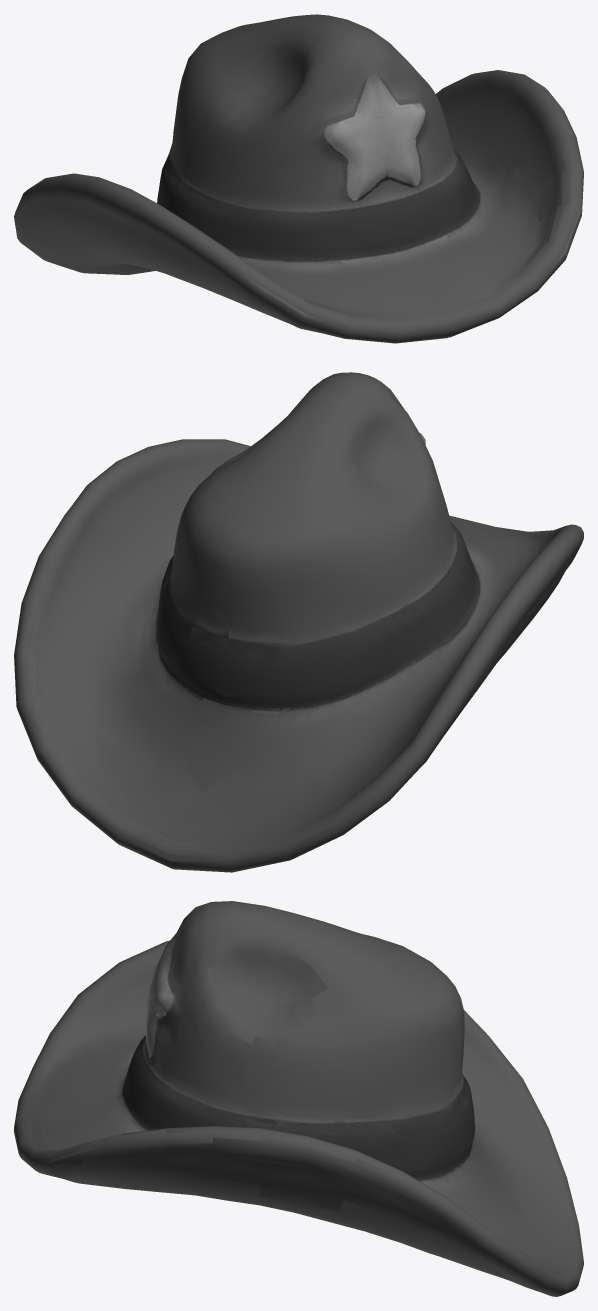
Rendered from Cowboy-Stealth.glb.
The picture shows the model from 3 angles, top to bottom: view 1: azimuth 30°, elevation 25°; view 2: azimuth 150°, elevation 25°; view 3: azimuth 270°, elevation 25°; orthographic projection.
Visible parts, largest first — view 1: Cowboy-Stealth; view 2: Cowboy-Stealth; view 3: Cowboy-Stealth.
Part boxes in pixels (x1,y1,x2,y2): Cowboy-Stealth: [14, 14, 583, 343]; Cowboy-Stealth: [14, 372, 583, 872]; Cowboy-Stealth: [14, 901, 583, 1296].
Size of the model in its own units: 0.6108 by 0.4772 by 0.6719.
Materials: 1 (1 with a texture image).
